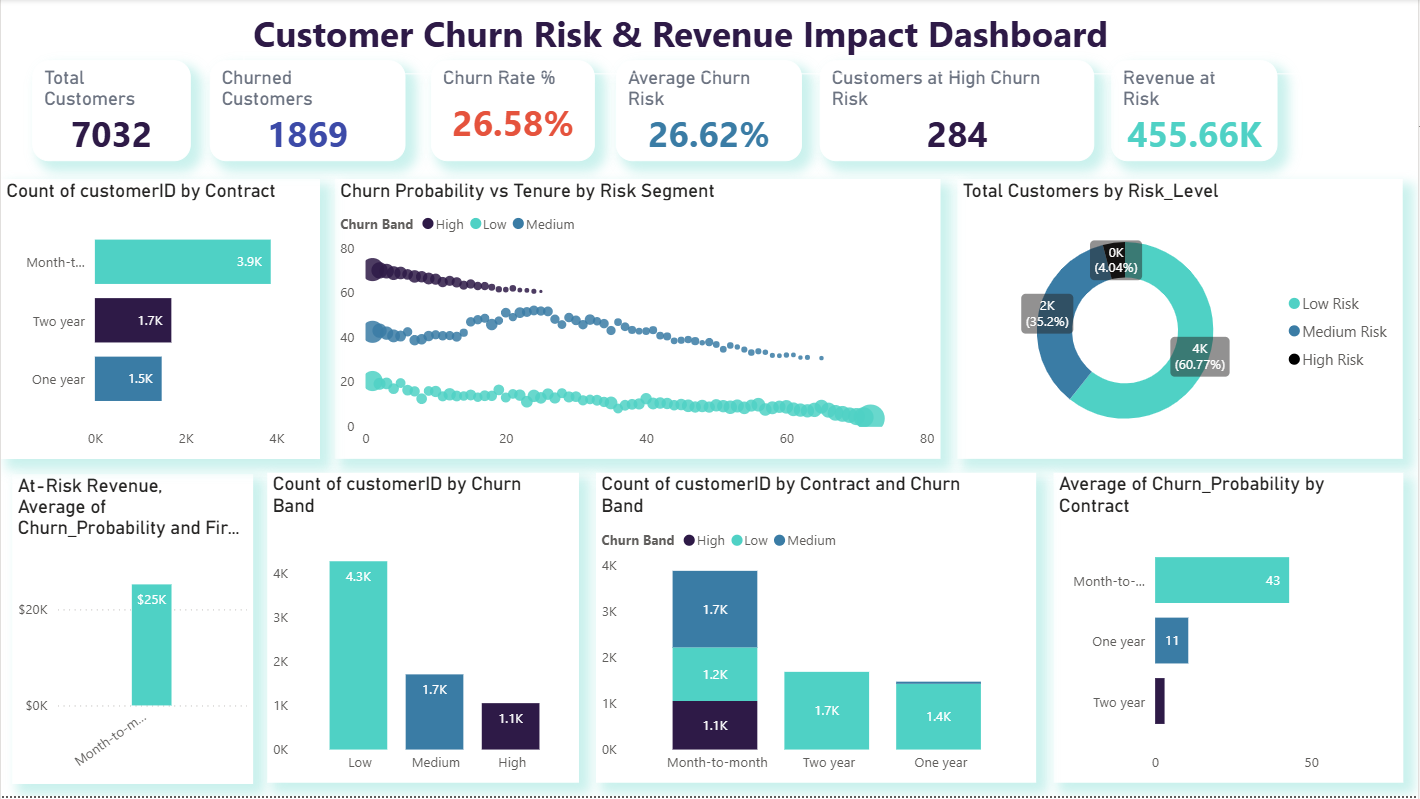

Layout of this report page (visuals, bound fields, positions):
{"tool":"powerbi","page":{"name":"Page 1","canvas":[1280,720],"ordinal":0},"visuals":[{"type":"card","title":"Revenue at Risk ","fields":{"Values":["Churn_Predictions_Final.At Risk Revenue KPI"]},"box":[1002.5,55.6,150.6,91.4],"z":0},{"type":"donutChart","fields":{"Category":["Churn_Predictions_Final.Risk_Level"],"Y":["Churn_Predictions_Final.Total Customers"]},"box":[864.2,163,402.5,253.1],"z":1000},{"type":"barChart","fields":{"Category":["Churn_Predictions_Final.Contract"],"Y":["Avg(Churn_Predictions_Final.Churn_Probability)"]},"box":[950.6,428.4,316,280.2],"z":2000},{"type":"card","title":"Total Customers","fields":{"Values":["Count(Churn_Predictions_Final.customerID)"]},"box":[28.4,55.6,143.2,91.4],"z":6001},{"type":"card","title":"Churned Customers","fields":{"Values":["Count(Churn_Predictions_Final.customerID)"]},"box":[188.9,55.6,176.5,91.4],"z":6002},{"type":"card","title":"Churn Rate %","fields":{"Values":["Churn_Predictions_Final.Churn Rate%"]},"box":[388.9,55.6,148.1,91.4],"z":6003},{"type":"card","title":"Average Churn Risk","fields":{"Values":["select","Churn_Predictions_Final.Average Churn Risk"]},"box":[555.6,55.6,167.9,91.4],"z":6004},{"type":"card","title":"Customers at High Churn Risk","fields":{"Values":["Churn_Predictions_Final.High Risk Customers KPI"]},"box":[739.5,55.6,248.1,91.4],"z":6005},{"type":"columnChart","fields":{"Category":["Churn_Predictions_Final.Contract"],"Y":["Churn_Predictions_Final.AT-Risk Revenue"]},"box":[9.9,429.6,217.3,280.2],"z":6006},{"type":"scatterChart","title":"Churn Probability vs Tenure by Risk Segment","fields":{"X":["Churn_Predictions_Final.tenure"],"Y":["Churn_Predictions_Final.Churn_Probability"],"Size":["CountNonNull(Churn_Predictions_Final.customerID)"],"Series":["Churn_Predictions_Final.Churn Band"]},"box":[301.2,163,546.9,253.1],"z":6007},{"type":"clusteredBarChart","fields":{"Category":["Churn_Predictions_Final.Contract"],"Y":["CountNonNull(Churn_Predictions_Final.customerID)"]},"box":[0,163,287.7,253.1],"z":6008},{"type":"clusteredColumnChart","fields":{"Category":["Churn_Predictions_Final.Churn Band"],"Y":["CountNonNull(Churn_Predictions_Final.customerID)"]},"box":[240.7,428.4,281.5,280.2],"z":6009},{"type":"columnChart","fields":{"Category":["Churn_Predictions_Final.Contract"],"Y":["CountNonNull(Churn_Predictions_Final.customerID)"],"Series":["Churn_Predictions_Final.Churn Band"]},"box":[537,428.4,397.5,280.2],"z":6011},{"type":"textbox","box":[218.5,0,1025.9,67.9],"z":6012}]}

Visuals, with their boxes in screenshot pixels (x1, y1, x2, y2), scaled from the page's 1280x720 canvas onto the 1420x799 screenshot:
"Revenue at Risk " card: BBox(1112, 62, 1279, 163)
donutChart - Churn_Predictions_Final.Risk_Level x Churn_Predictions_Final.Total Customers: BBox(959, 181, 1405, 462)
barChart - Churn_Predictions_Final.Contract x Avg(Churn_Predictions_Final.Churn_Probability): BBox(1055, 475, 1405, 786)
"Total Customers" card: BBox(32, 62, 190, 163)
"Churned Customers" card: BBox(210, 62, 405, 163)
"Churn Rate %" card: BBox(431, 62, 596, 163)
"Average Churn Risk" card: BBox(616, 62, 803, 163)
"Customers at High Churn Risk" card: BBox(820, 62, 1096, 163)
columnChart - Churn_Predictions_Final.Contract x Churn_Predictions_Final.AT-Risk Revenue: BBox(11, 477, 252, 788)
"Churn Probability vs Tenure by Risk Segment" scatterChart: BBox(334, 181, 941, 462)
clusteredBarChart - Churn_Predictions_Final.Contract x CountNonNull(Churn_Predictions_Final.customerID): BBox(0, 181, 319, 462)
clusteredColumnChart - Churn_Predictions_Final.Churn Band x CountNonNull(Churn_Predictions_Final.customerID): BBox(267, 475, 579, 786)
columnChart - Churn_Predictions_Final.Contract x CountNonNull(Churn_Predictions_Final.customerID): BBox(596, 475, 1037, 786)
textbox: BBox(242, 0, 1381, 75)
